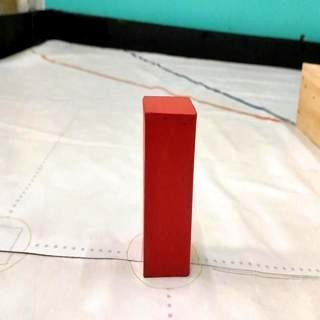redbox: (144, 96, 192, 278)
